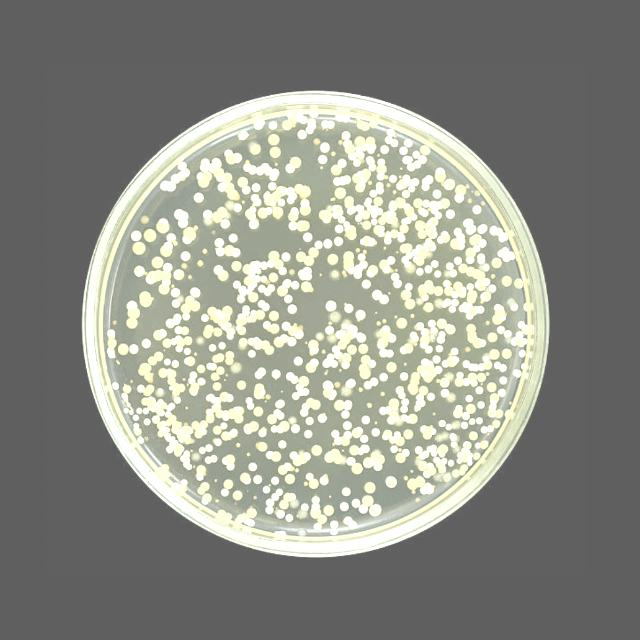colony: (243, 159, 281, 183), (222, 403, 248, 432), (416, 277, 442, 305), (288, 448, 314, 474), (284, 154, 308, 178), (490, 304, 512, 330), (291, 122, 311, 150), (180, 295, 200, 323), (260, 189, 282, 213), (461, 303, 485, 323), (242, 207, 262, 231), (144, 270, 172, 286), (228, 406, 250, 426), (264, 248, 284, 270), (371, 288, 392, 308), (377, 256, 395, 278), (173, 208, 190, 230), (150, 326, 168, 344), (220, 453, 238, 471), (138, 289, 154, 309), (192, 420, 208, 440), (142, 227, 158, 246), (271, 186, 289, 202), (342, 300, 358, 318), (212, 207, 228, 225), (382, 475, 398, 493), (287, 324, 305, 340), (197, 494, 215, 510), (195, 172, 213, 188), (359, 234, 378, 248), (306, 339, 320, 358), (330, 175, 352, 187), (298, 266, 314, 282), (442, 298, 458, 314), (252, 385, 268, 401), (352, 309, 370, 323), (239, 472, 253, 490), (195, 482, 212, 496), (200, 210, 213, 228), (324, 298, 338, 314), (298, 218, 314, 232), (309, 444, 325, 458), (116, 342, 130, 358), (221, 391, 237, 405), (138, 384, 154, 398), (258, 206, 272, 222), (178, 250, 194, 264), (132, 262, 146, 278), (132, 241, 148, 255), (160, 182, 178, 194), (210, 237, 226, 250), (326, 253, 340, 267), (436, 230, 450, 244), (446, 323, 460, 337), (292, 354, 306, 368), (128, 344, 142, 358), (300, 282, 316, 294), (360, 413, 372, 429), (254, 366, 266, 382), (212, 264, 225, 278), (401, 154, 415, 166), (418, 155, 432, 167), (218, 270, 232, 282), (192, 192, 206, 204), (302, 428, 314, 442), (204, 455, 218, 467), (187, 371, 199, 385), (179, 170, 191, 184), (218, 220, 234, 230), (408, 412, 418, 428), (274, 206, 284, 222), (396, 318, 409, 330), (341, 487, 354, 499), (214, 246, 226, 258), (233, 246, 245, 258), (406, 480, 418, 492), (270, 369, 282, 381), (276, 286, 288, 298), (362, 459, 374, 471), (420, 145, 434, 155), (238, 338, 248, 352), (245, 350, 259, 360), (242, 304, 252, 318), (170, 171, 180, 185), (282, 494, 296, 504), (223, 243, 234, 255), (368, 266, 378, 278), (288, 305, 300, 315), (375, 166, 389, 174), (438, 389, 452, 397), (407, 163, 418, 173), (415, 478, 427, 487), (362, 280, 372, 290), (398, 146, 408, 156), (288, 222, 298, 232), (212, 382, 222, 392), (176, 162, 188, 170), (374, 317, 382, 328), (381, 318, 391, 326), (376, 158, 386, 166), (233, 282, 241, 290), (210, 308, 216, 314), (355, 247, 361, 253), (393, 314, 399, 320)
